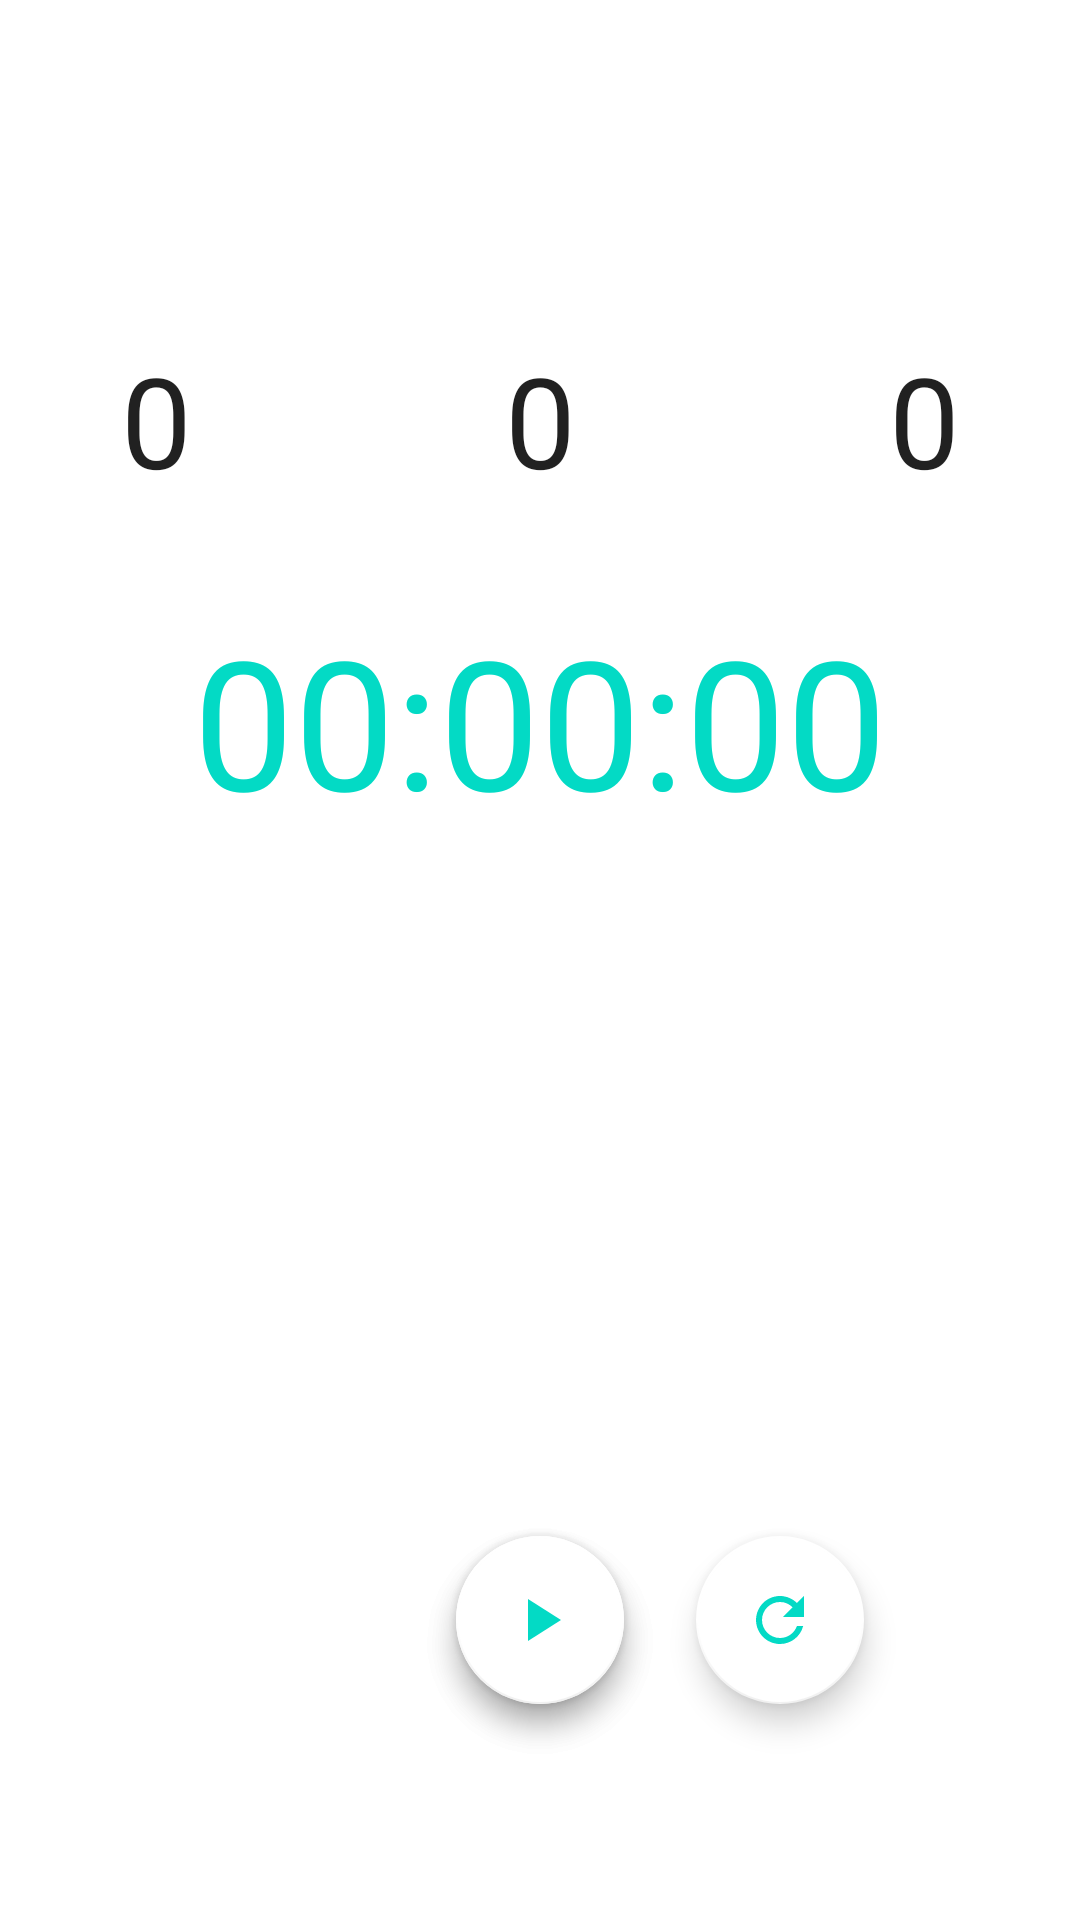

Icons on this 1080 x 1920 Android screen, each with its box as (x1, y1, x2, y2):
refresh: (699, 1596, 864, 1704)
